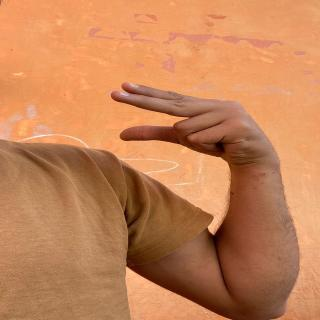DHELL: (105, 77, 291, 173)
